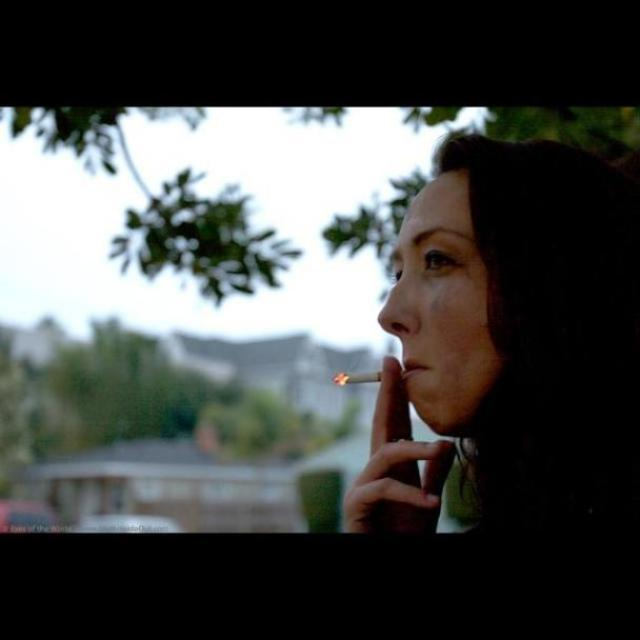rokok: (330, 368, 420, 388)
